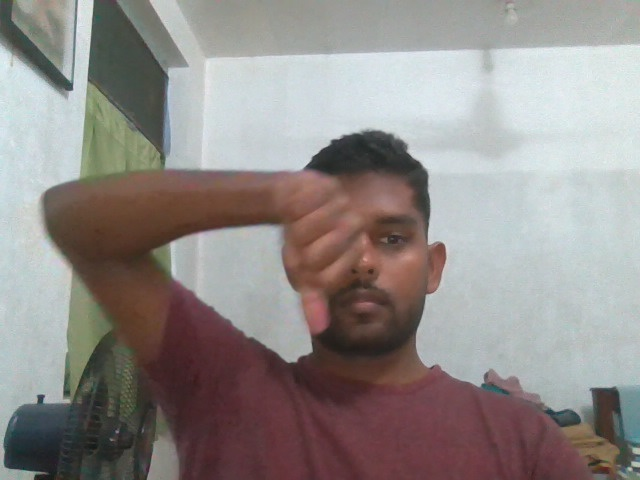dontlike: (244, 158, 375, 349)
